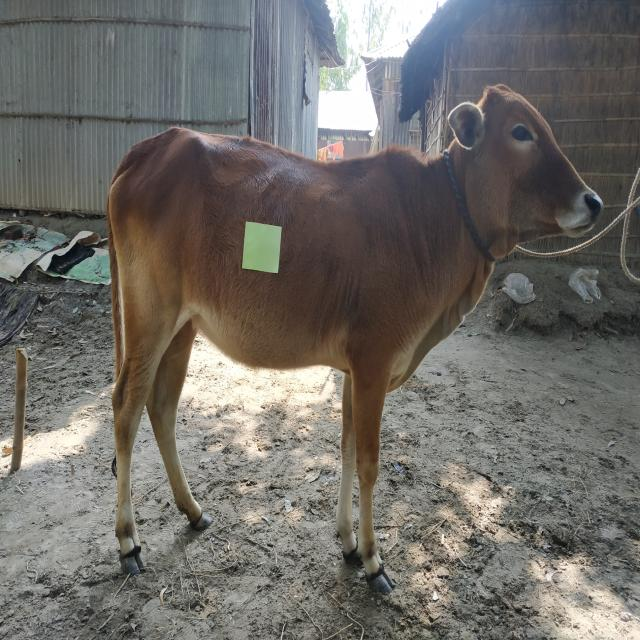badan_sapi: (128, 146, 405, 377)
sapi: (103, 76, 603, 603)
